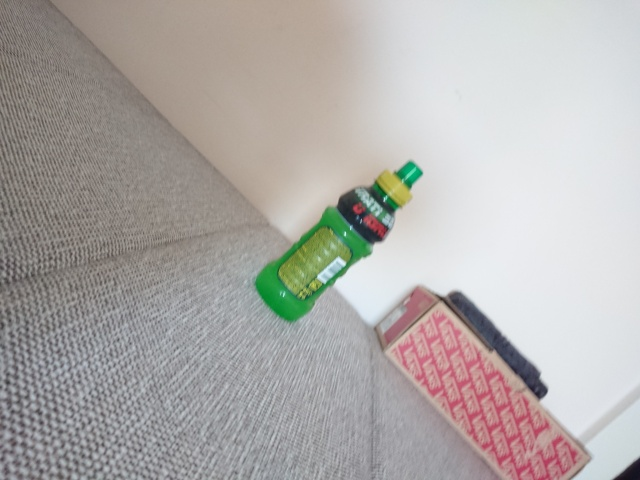Vindi Iso Sport Lemon-Grapefruit 500mL: (252, 158, 425, 325)
